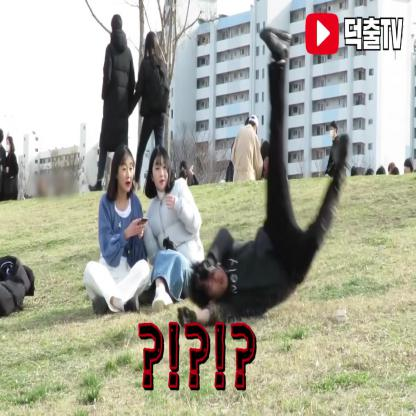Fall_Down: (175, 26, 349, 330)
